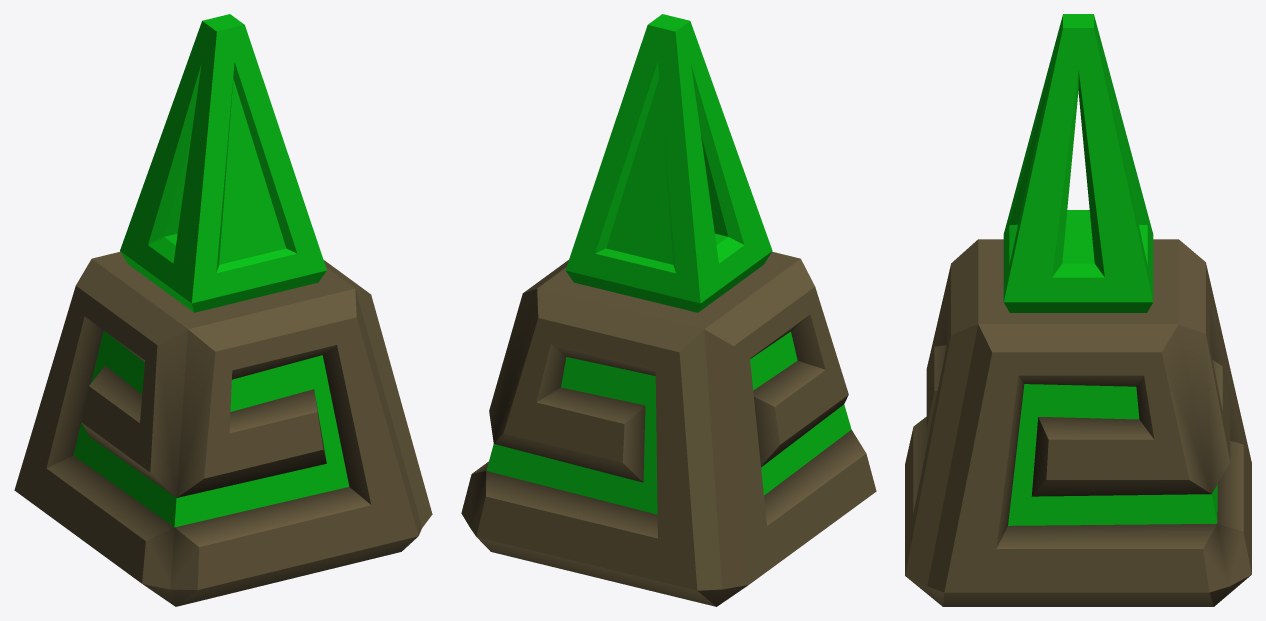
The model's file is ENV_SingingStone_Green_01.fbx.
3 views of the same model, side by side, from view 1: azimuth 30°, elevation 25°; view 2: azimuth 150°, elevation 25°; view 3: azimuth 270°, elevation 25° (orthographic). The views are drawn at different scales.
Parts seen in each view (by area): view 1: ENV_SingingStone_Green_01; view 2: ENV_SingingStone_Green_01; view 3: ENV_SingingStone_Green_01.
Boxes of the visible parts, left/top/right/bottom form: ENV_SingingStone_Green_01: left=14, top=14, right=432, bottom=606; ENV_SingingStone_Green_01: left=461, top=14, right=876, bottom=606; ENV_SingingStone_Green_01: left=905, top=14, right=1251, bottom=606.
Size of the model in its own units: 107 by 180 by 107.
